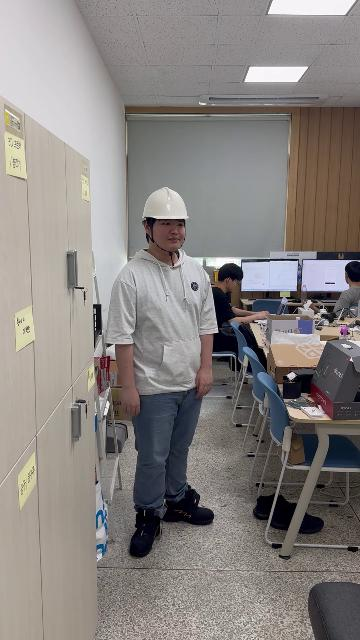helmet_worn: (142, 187, 189, 223)
shoe_worn: (161, 488, 217, 526), (128, 506, 162, 556)
vest_not_worn: (124, 253, 207, 408)
